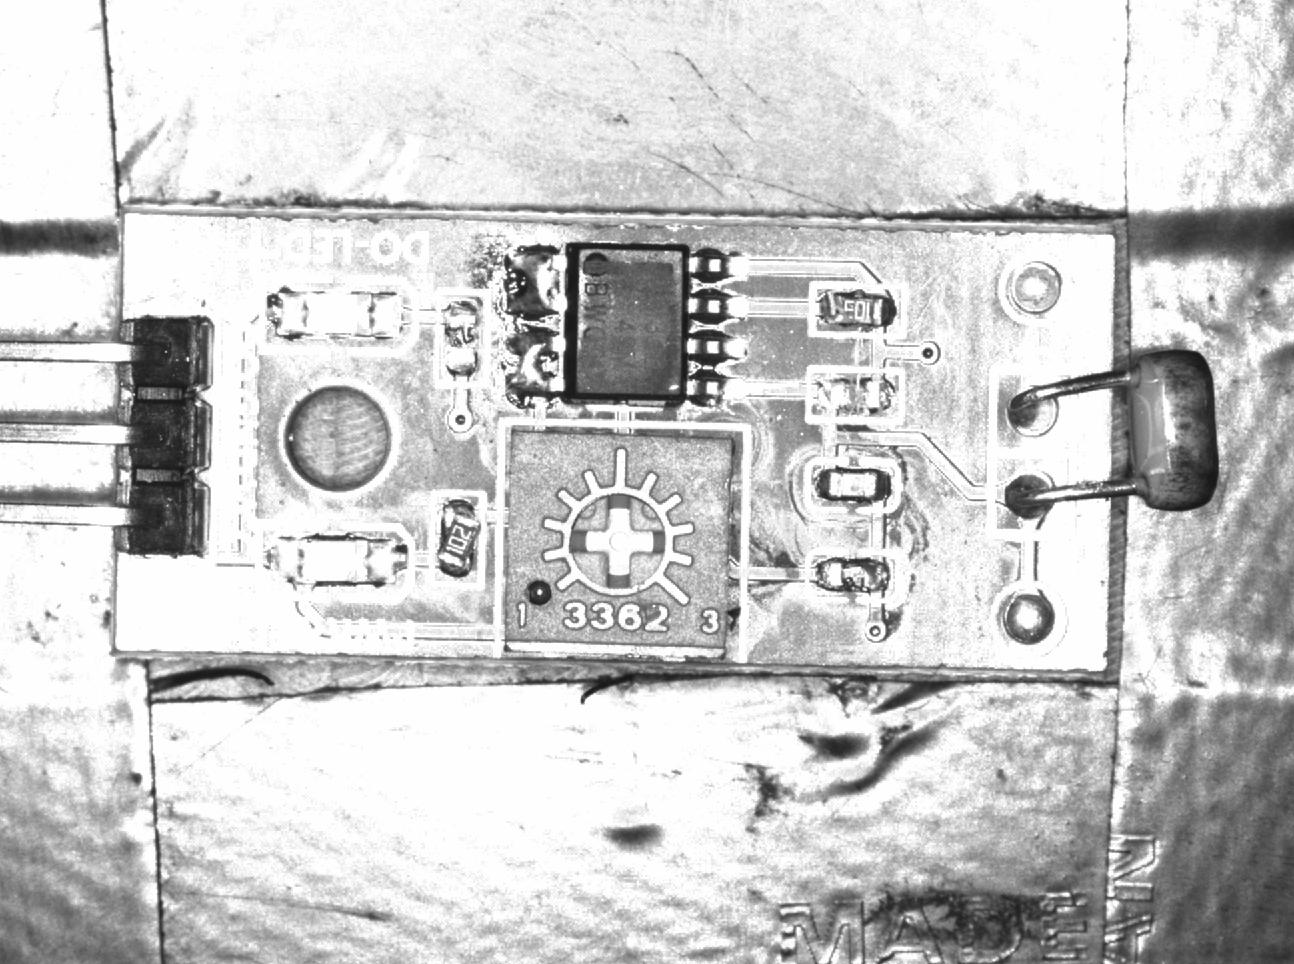bridge: (501, 242, 569, 320), (501, 329, 565, 399)
lifted: (433, 491, 483, 586)
miss: (807, 367, 905, 425), (435, 290, 487, 386), (806, 549, 898, 601)
ok: (807, 282, 907, 338), (804, 457, 902, 511)
